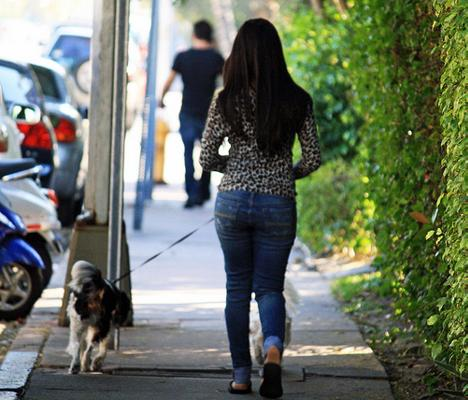person: (199, 19, 321, 399)
